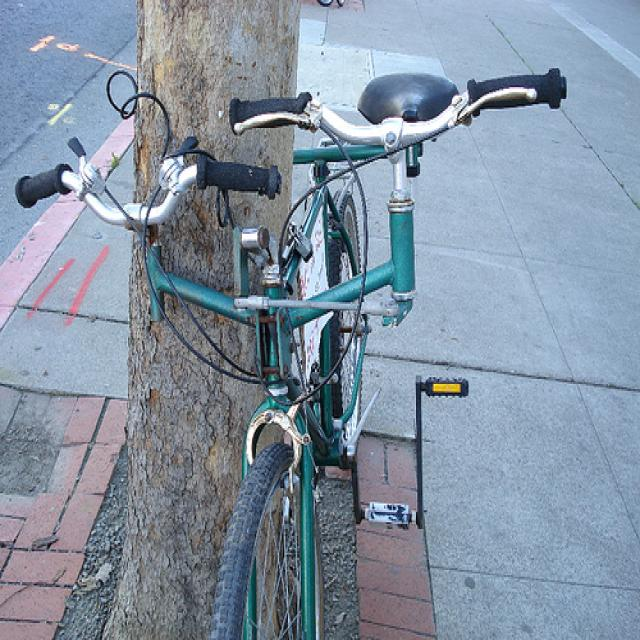bicycle: (14, 70, 569, 640)
